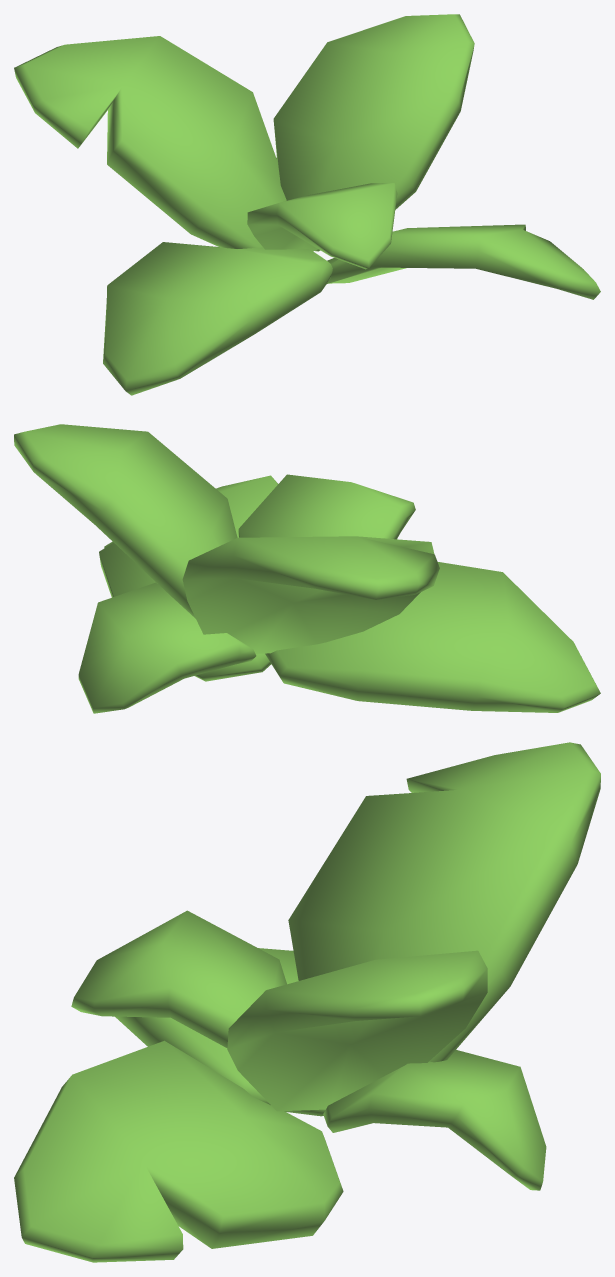
The model's file is leafs_5.glb.
3 renders of one model, top to bottom at view 1: azimuth 30°, elevation 25°; view 2: azimuth 150°, elevation 25°; view 3: azimuth 270°, elevation 25°, orthographic. The views are drawn at different scales.
Visible parts, largest first — view 1: leafs_5; view 2: leafs_5; view 3: leafs_5.
Boxes of the visible parts, x1,y1,x2,y2 form: leafs_5: (14,14,600,395); leafs_5: (14,424,600,713); leafs_5: (14,742,600,1262).
Bounding box in the file's own units: 0.4553 × 0.2145 × 0.3797.
